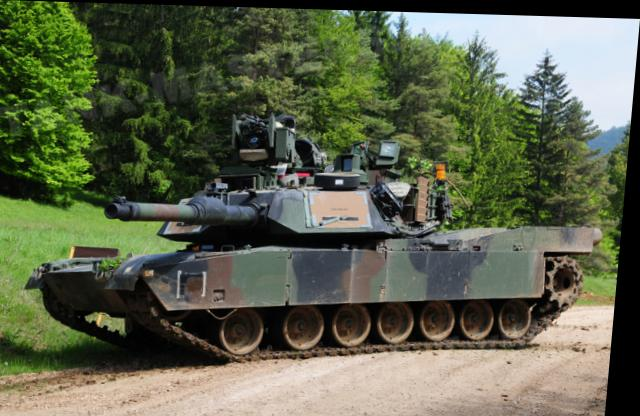tank: (92, 153, 612, 362)
